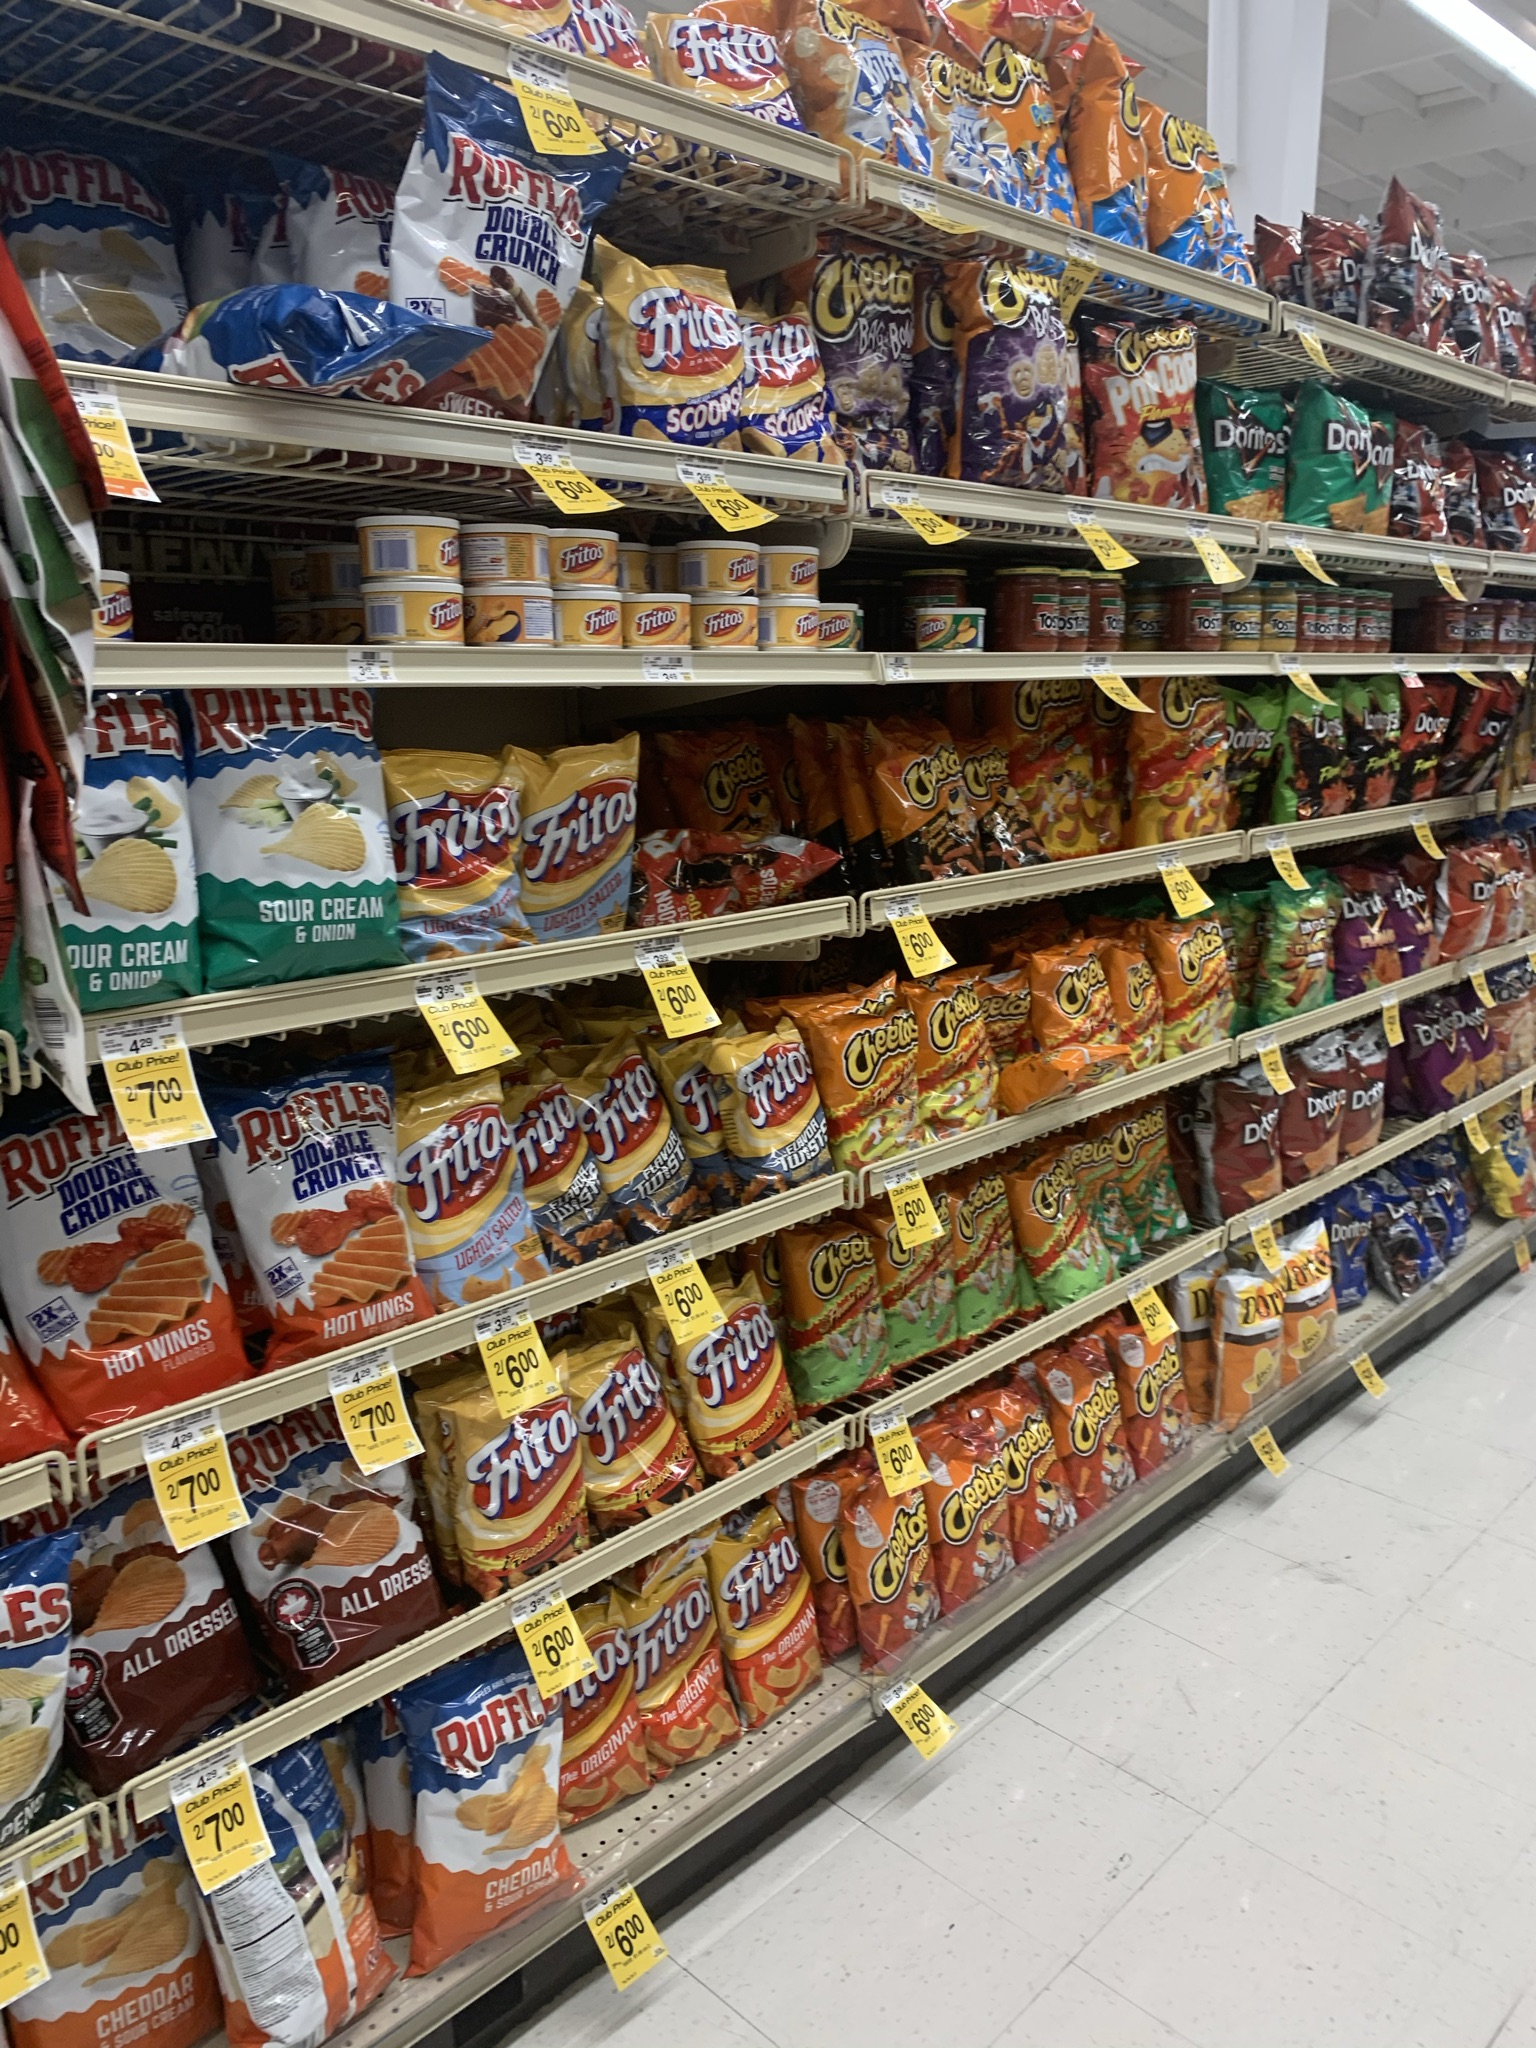chip: (197, 681, 384, 998), (10, 1087, 181, 1432), (202, 1092, 418, 1364), (387, 140, 600, 414), (257, 1371, 407, 1700), (399, 1687, 582, 1940), (35, 698, 181, 1013), (236, 1740, 373, 2048), (56, 1461, 184, 1767), (950, 232, 1087, 497), (424, 1361, 591, 1579), (507, 1606, 670, 1785), (384, 735, 518, 953), (552, 1317, 687, 1513), (724, 1500, 841, 1721), (484, 1056, 608, 1261), (515, 735, 641, 932), (626, 1546, 741, 1761), (820, 1450, 941, 1650), (660, 1293, 794, 1467), (584, 1034, 699, 1234), (592, 273, 731, 434), (1041, 1353, 1150, 1517), (1134, 681, 1239, 851), (986, 1379, 1087, 1555), (716, 1027, 826, 1188), (794, 1242, 899, 1406), (918, 1417, 1013, 1598), (928, 1164, 1028, 1334), (737, 276, 826, 460), (1117, 1297, 1205, 1479), (1099, 1105, 1205, 1253), (1194, 1051, 1294, 1208), (912, 984, 1008, 1135), (1305, 373, 1386, 539), (884, 1205, 963, 1371), (892, 727, 978, 874), (1218, 364, 1291, 526), (1020, 1143, 1094, 1300), (1154, 103, 1220, 273), (1154, 914, 1242, 1039), (1286, 669, 1355, 821), (1391, 194, 1454, 348), (994, 53, 1052, 219), (1042, 951, 1113, 1084), (1265, 887, 1334, 1009), (1297, 1039, 1352, 1187), (1409, 660, 1459, 800), (1359, 1027, 1399, 1171), (1355, 880, 1400, 989)
